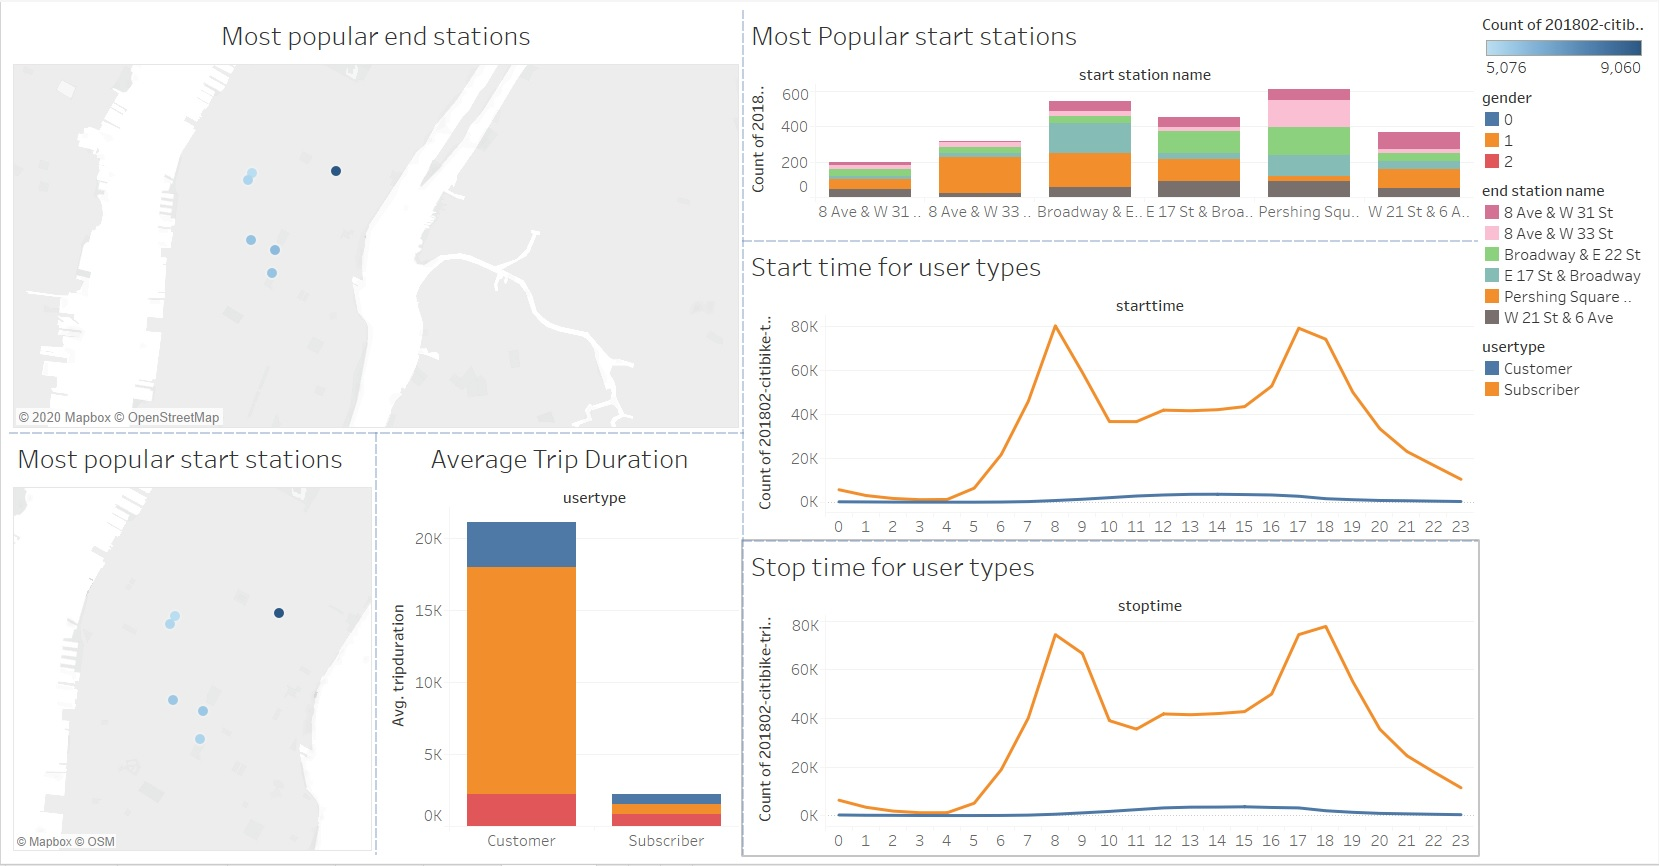

The page's visual inventory and layout, read from the dashboard file:
{"tool":"tableau","page":{"name":"Feb2018","canvas":[1000,1000],"units":"permille","ordinal":0},"visuals":[{"type":"worksheet","box":[0,0,1000,1000]},{"type":"worksheet","param":"horz","box":[4.8,9.3,990.3,981.4]},{"type":"worksheet","box":[4.8,9.3,886.5,981.4]},{"type":"worksheet","title":"EndStations","mark":"Automatic","rows":["end station latitude"],"cols":["end station longitude"],"box":[4.8,9.3,443.3,490.7]},{"type":"worksheet","title":"StartPopular","mark":"Automatic","rows":["201802-citibike-tripdata.csv_B71B42E5E37246B18E4803C62F4AF30"],"cols":["start station name"],"box":[448.1,9.3,443.3,268.3]},{"type":"worksheet","param":"vert","box":[891.4,9.3,103.8,981.4]},{"type":"worksheet","title":"EndStations","mark":"Automatic","rows":["end station latitude"],"cols":["end station longitude"],"param":"[federated.08j6uno1ey5fs515guw420afszgm].[__tableau_internal_object_id__].[cnt:2","box":[891.4,9.3,103.8,84.8]},{"type":"worksheet","title":"Trip Duration","mark":"Automatic","rows":["tripduration"],"cols":["usertype"],"param":"[federated.08j6uno1ey5fs515guw420afszgm].[none:gender:ok]","box":[891.4,94.1,103.8,108]},{"type":"worksheet","title":"StartPopular","mark":"Automatic","rows":["201802-citibike-tripdata.csv_B71B42E5E37246B18E4803C62F4AF30"],"cols":["start station name"],"param":"[federated.08j6uno1ey5fs515guw420afszgm].[none:end station name:nk]","box":[891.4,202.1,103.8,181.2]},{"type":"worksheet","title":"StartTime","mark":"Automatic","rows":["201802-citibike-tripdata.csv_B71B42E5E37246B18E4803C62F4AF30"],"cols":["starttime"],"box":[448.1,277.6,443.3,348.4]},{"type":"worksheet","title":"StartTime","mark":"Automatic","rows":["201802-citibike-tripdata.csv_B71B42E5E37246B18E4803C62F4AF30"],"cols":["starttime"],"param":"[federated.08j6uno1ey5fs515guw420afszgm].[none:usertype:nk]","box":[891.4,383.3,103.8,83.6]},{"type":"worksheet","title":"StartStations","mark":"Automatic","rows":["start station latitude"],"cols":["start station longitude"],"box":[4.8,500,221.6,490.7]},{"type":"worksheet","title":"Trip Duration","mark":"Automatic","rows":["tripduration"],"cols":["usertype"],"box":[226.5,500,221.7,490.7]},{"type":"worksheet","title":"EndTime","mark":"Automatic","rows":["201802-citibike-tripdata.csv_B71B42E5E37246B18E4803C62F4AF30"],"cols":["stoptime"],"box":[448.1,626,443.3,364.7]}]}

Visuals, with their boxes on the dashboard's canvas, which has no fixed pixel size, in thousandths of its width and height (x1, y1, x2, y2). These are canvas units, not pixel positions in the 1659x866 screenshot, which may show the page scaled, cropped or inside an application window:
worksheet: [0, 0, 1000, 1000]
worksheet: [5, 9, 995, 991]
worksheet: [5, 9, 891, 991]
"EndStations" worksheet: [5, 9, 448, 500]
"StartPopular" worksheet: [448, 9, 891, 278]
worksheet: [891, 9, 995, 991]
"EndStations" worksheet: [891, 9, 995, 94]
"Trip Duration" worksheet: [891, 94, 995, 202]
"StartPopular" worksheet: [891, 202, 995, 383]
"StartTime" worksheet: [448, 278, 891, 626]
"StartTime" worksheet: [891, 383, 995, 467]
"StartStations" worksheet: [5, 500, 226, 991]
"Trip Duration" worksheet: [226, 500, 448, 991]
"EndTime" worksheet: [448, 626, 891, 991]
